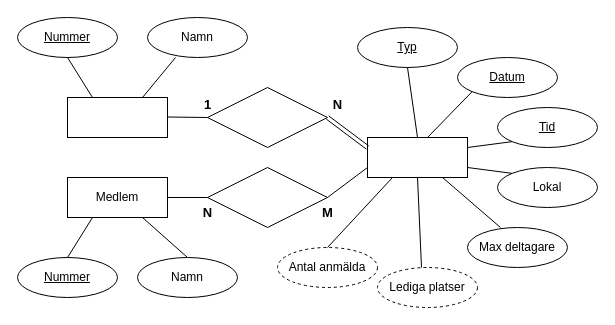
The diagram is 615 pixels wide and 325 high, and some of its shapes have lost their labels. The shapes that lost their labels are listed below. From the top down, each one's box as (x1, y1, x2, y2) in pixels, then its label:
(66, 96, 168, 138): Ledare
(206, 86, 328, 148): Leder
(366, 136, 468, 178): Pass
(206, 166, 328, 228): Deltar
